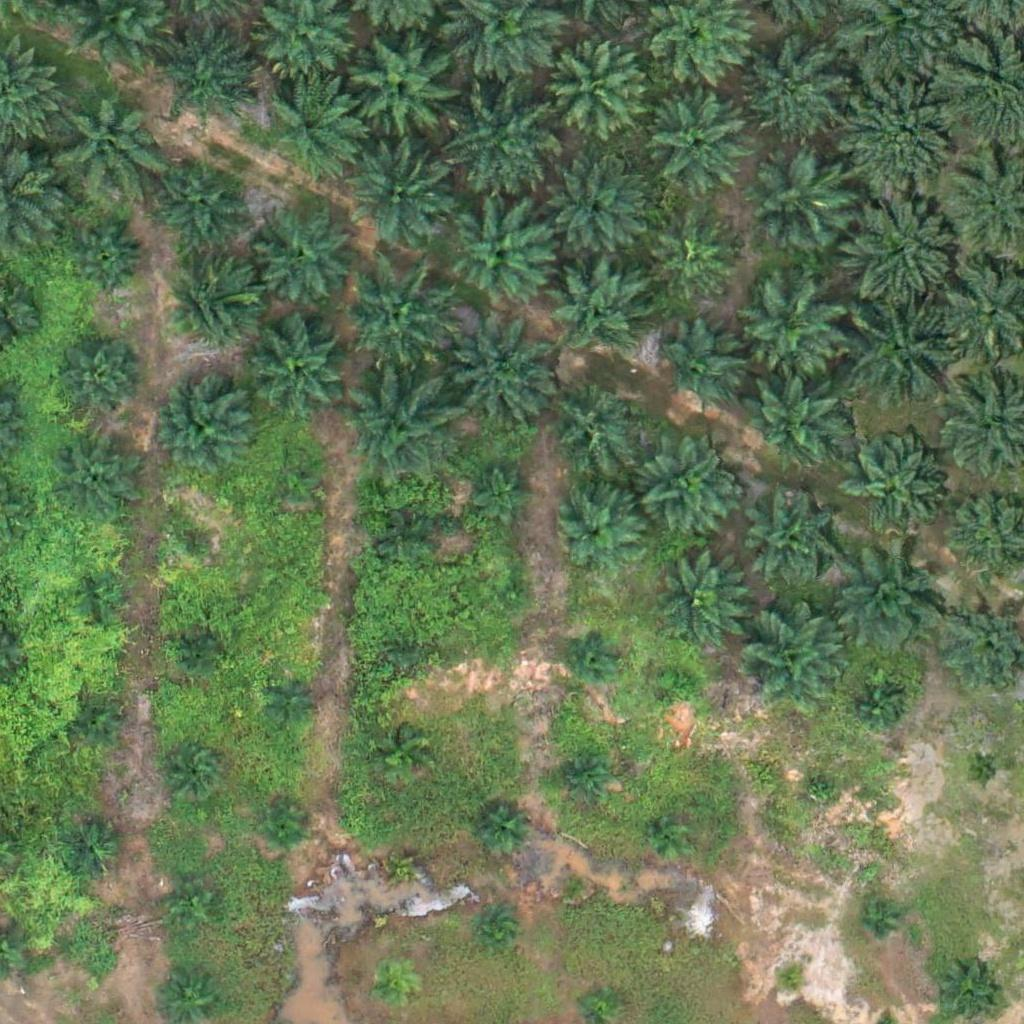Kelapa_Sawit: (841, 69, 966, 195), (836, 186, 961, 311), (445, 318, 558, 431), (443, 88, 556, 201), (845, 297, 958, 410), (836, 546, 949, 659), (344, 262, 456, 375), (340, 370, 452, 483), (743, 370, 843, 471), (638, 439, 738, 540), (549, 163, 649, 264), (549, 257, 649, 358), (542, 376, 642, 477), (450, 203, 550, 304), (354, 39, 454, 140), (347, 136, 447, 237), (248, 319, 348, 420), (255, 207, 355, 308), (264, 72, 364, 173), (155, 25, 255, 126), (155, 157, 255, 258), (159, 253, 259, 354), (57, 82, 157, 183), (844, 437, 944, 538), (743, 611, 843, 712), (743, 46, 843, 146), (751, 154, 851, 254), (739, 280, 839, 380), (650, 96, 750, 196), (547, 41, 647, 141), (151, 373, 251, 473), (646, 551, 746, 651), (658, 324, 746, 412), (651, 216, 739, 304), (745, 494, 833, 582), (556, 491, 643, 580), (49, 430, 136, 518), (55, 329, 142, 417), (70, 224, 145, 300), (165, 739, 228, 802), (60, 818, 123, 881), (472, 459, 534, 522), (376, 728, 426, 779), (473, 808, 523, 859), (368, 965, 418, 1016), (851, 679, 901, 730), (169, 630, 219, 681), (269, 674, 319, 725), (381, 837, 431, 888), (168, 888, 218, 938), (272, 458, 322, 508), (168, 523, 218, 573), (383, 517, 433, 567), (70, 697, 120, 747), (557, 753, 607, 803), (570, 630, 620, 680), (660, 665, 698, 703), (651, 816, 689, 854), (803, 772, 841, 810), (965, 753, 1003, 791), (771, 962, 809, 1000), (266, 805, 304, 842), (389, 632, 426, 670), (494, 577, 531, 615), (74, 939, 111, 977), (855, 901, 892, 939), (552, 862, 589, 900), (478, 912, 515, 949), (76, 583, 113, 620), (583, 985, 620, 1022)
